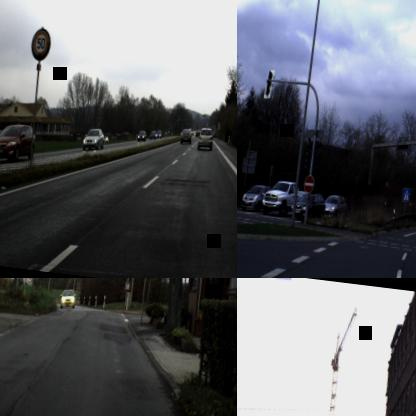NO ENTRY: (302, 173, 315, 194)
speed limit 50: (30, 28, 50, 57)
